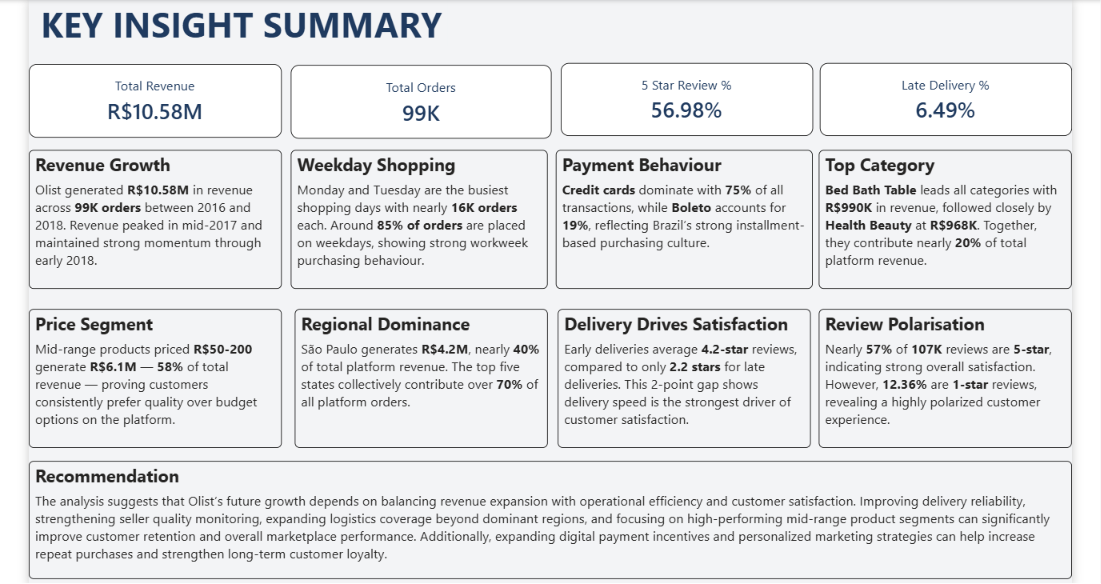

What the dashboard file says about the page in this screenshot:
{"tool":"powerbi","page":{"name":"Key Insight Summary","canvas":[1280,720],"ordinal":4},"visuals":[{"type":"textbox","title":"KEY INSIGHT SUMMARY","box":[9.8,0,504.3,56.4],"z":0},{"type":"cardVisual","fields":{"Data":["Measures Table.Total Revenue"]},"box":[0,78.6,310,90],"z":1},{"type":"cardVisual","fields":{"Data":["Measures Table.Total Orders"]},"box":[321.4,80,320,90],"z":2},{"type":"cardVisual","fields":{"Data":["Measures Table.Late Delivery %"]},"box":[970,77.1,310,90],"z":3},{"type":"cardVisual","fields":{"Data":["Measures Table.5 Star Review %"]},"box":[652.8,77.3,309.2,89.6],"z":4},{"type":"textbox","title":"Revenue Growth","box":[0,183.8,310,170],"z":5},{"type":"textbox","title":"Weekday Shopping","box":[321.5,184.1,315,170],"z":6},{"type":"textbox","title":"Payment Behaviour","box":[646.6,184.1,315.3,170],"z":7},{"type":"textbox","title":"Top Category","box":[969.3,184.1,310.4,170],"z":8},{"type":"textbox","title":"Price Segment","box":[0,379.1,310.4,170.6],"z":9},{"type":"textbox","title":"Regional Dominance","box":[326.4,379.1,310.4,170.6],"z":10},{"type":"textbox","title":"Delivery Drives Satisfaction","box":[649.1,379.1,310.4,170.6],"z":11},{"type":"textbox","title":"Review Polarisation","box":[969.3,379.1,310.4,170.6],"z":12},{"type":"textbox","title":"Recommendation","box":[0,565.6,1279.8,144.8],"z":13}]}

Visuals, with their boxes on the page's 1280x720 design canvas (x1, y1, x2, y2). These are canvas units, not pixel positions in the 1101x584 screenshot, which may show the page scaled, cropped or inside an application window:
"KEY INSIGHT SUMMARY" textbox: [left=10, top=0, right=514, bottom=56]
cardVisual - Measures Table.Total Revenue: [left=0, top=79, right=310, bottom=169]
cardVisual - Measures Table.Total Orders: [left=321, top=80, right=641, bottom=170]
cardVisual - Measures Table.Late Delivery %: [left=970, top=77, right=1280, bottom=167]
cardVisual - Measures Table.5 Star Review %: [left=653, top=77, right=962, bottom=167]
"Revenue Growth" textbox: [left=0, top=184, right=310, bottom=354]
"Weekday Shopping" textbox: [left=322, top=184, right=636, bottom=354]
"Payment Behaviour" textbox: [left=647, top=184, right=962, bottom=354]
"Top Category" textbox: [left=969, top=184, right=1280, bottom=354]
"Price Segment" textbox: [left=0, top=379, right=310, bottom=550]
"Regional Dominance" textbox: [left=326, top=379, right=637, bottom=550]
"Delivery Drives Satisfaction" textbox: [left=649, top=379, right=960, bottom=550]
"Review Polarisation" textbox: [left=969, top=379, right=1280, bottom=550]
"Recommendation" textbox: [left=0, top=566, right=1280, bottom=710]
